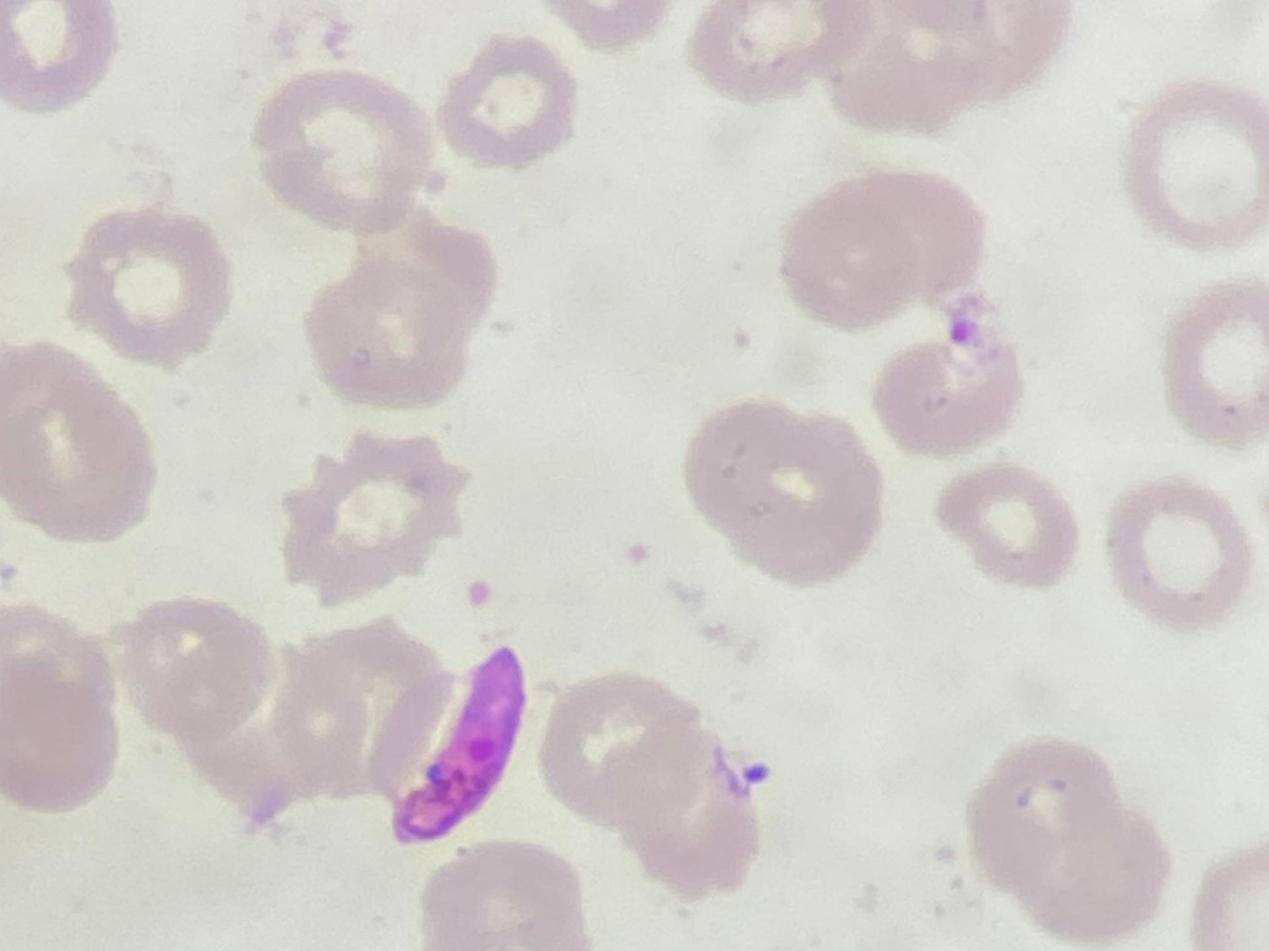Infected: (375, 646, 527, 846), (612, 732, 776, 894)
Uninfected: (966, 740, 1165, 939), (683, 401, 880, 582), (303, 224, 492, 408), (263, 623, 447, 808), (781, 171, 984, 326), (283, 434, 469, 603), (1, 344, 157, 544), (250, 69, 438, 230), (830, 1, 1061, 132), (65, 206, 234, 366), (111, 599, 274, 759), (540, 676, 704, 832), (1125, 83, 1269, 248), (0, 623, 116, 813), (1105, 478, 1248, 625), (874, 330, 1022, 456), (932, 465, 1077, 590), (420, 844, 588, 951), (438, 34, 574, 165), (1162, 281, 1269, 445)
